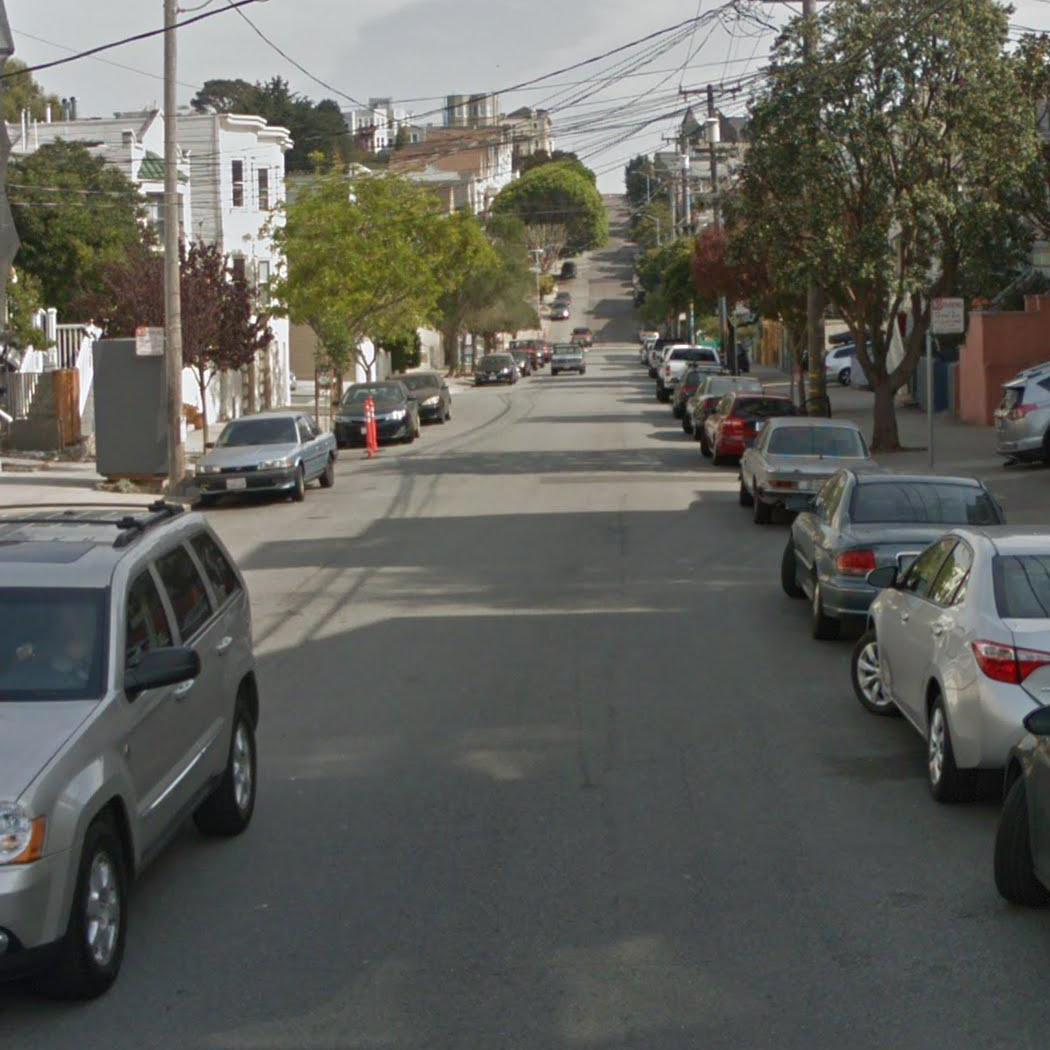No Parking: (926, 295, 967, 336), (130, 320, 170, 360)
